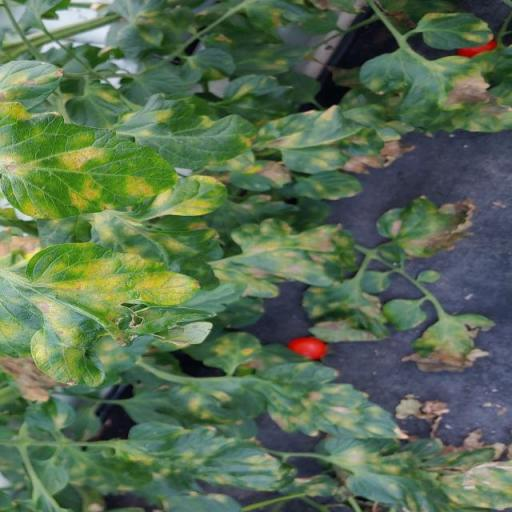disease_tomato: (0, 241, 218, 386), (0, 101, 179, 220), (357, 48, 512, 133), (113, 422, 299, 492), (248, 361, 412, 440), (206, 218, 360, 299), (111, 92, 258, 170), (260, 105, 384, 174), (419, 7, 493, 50)
